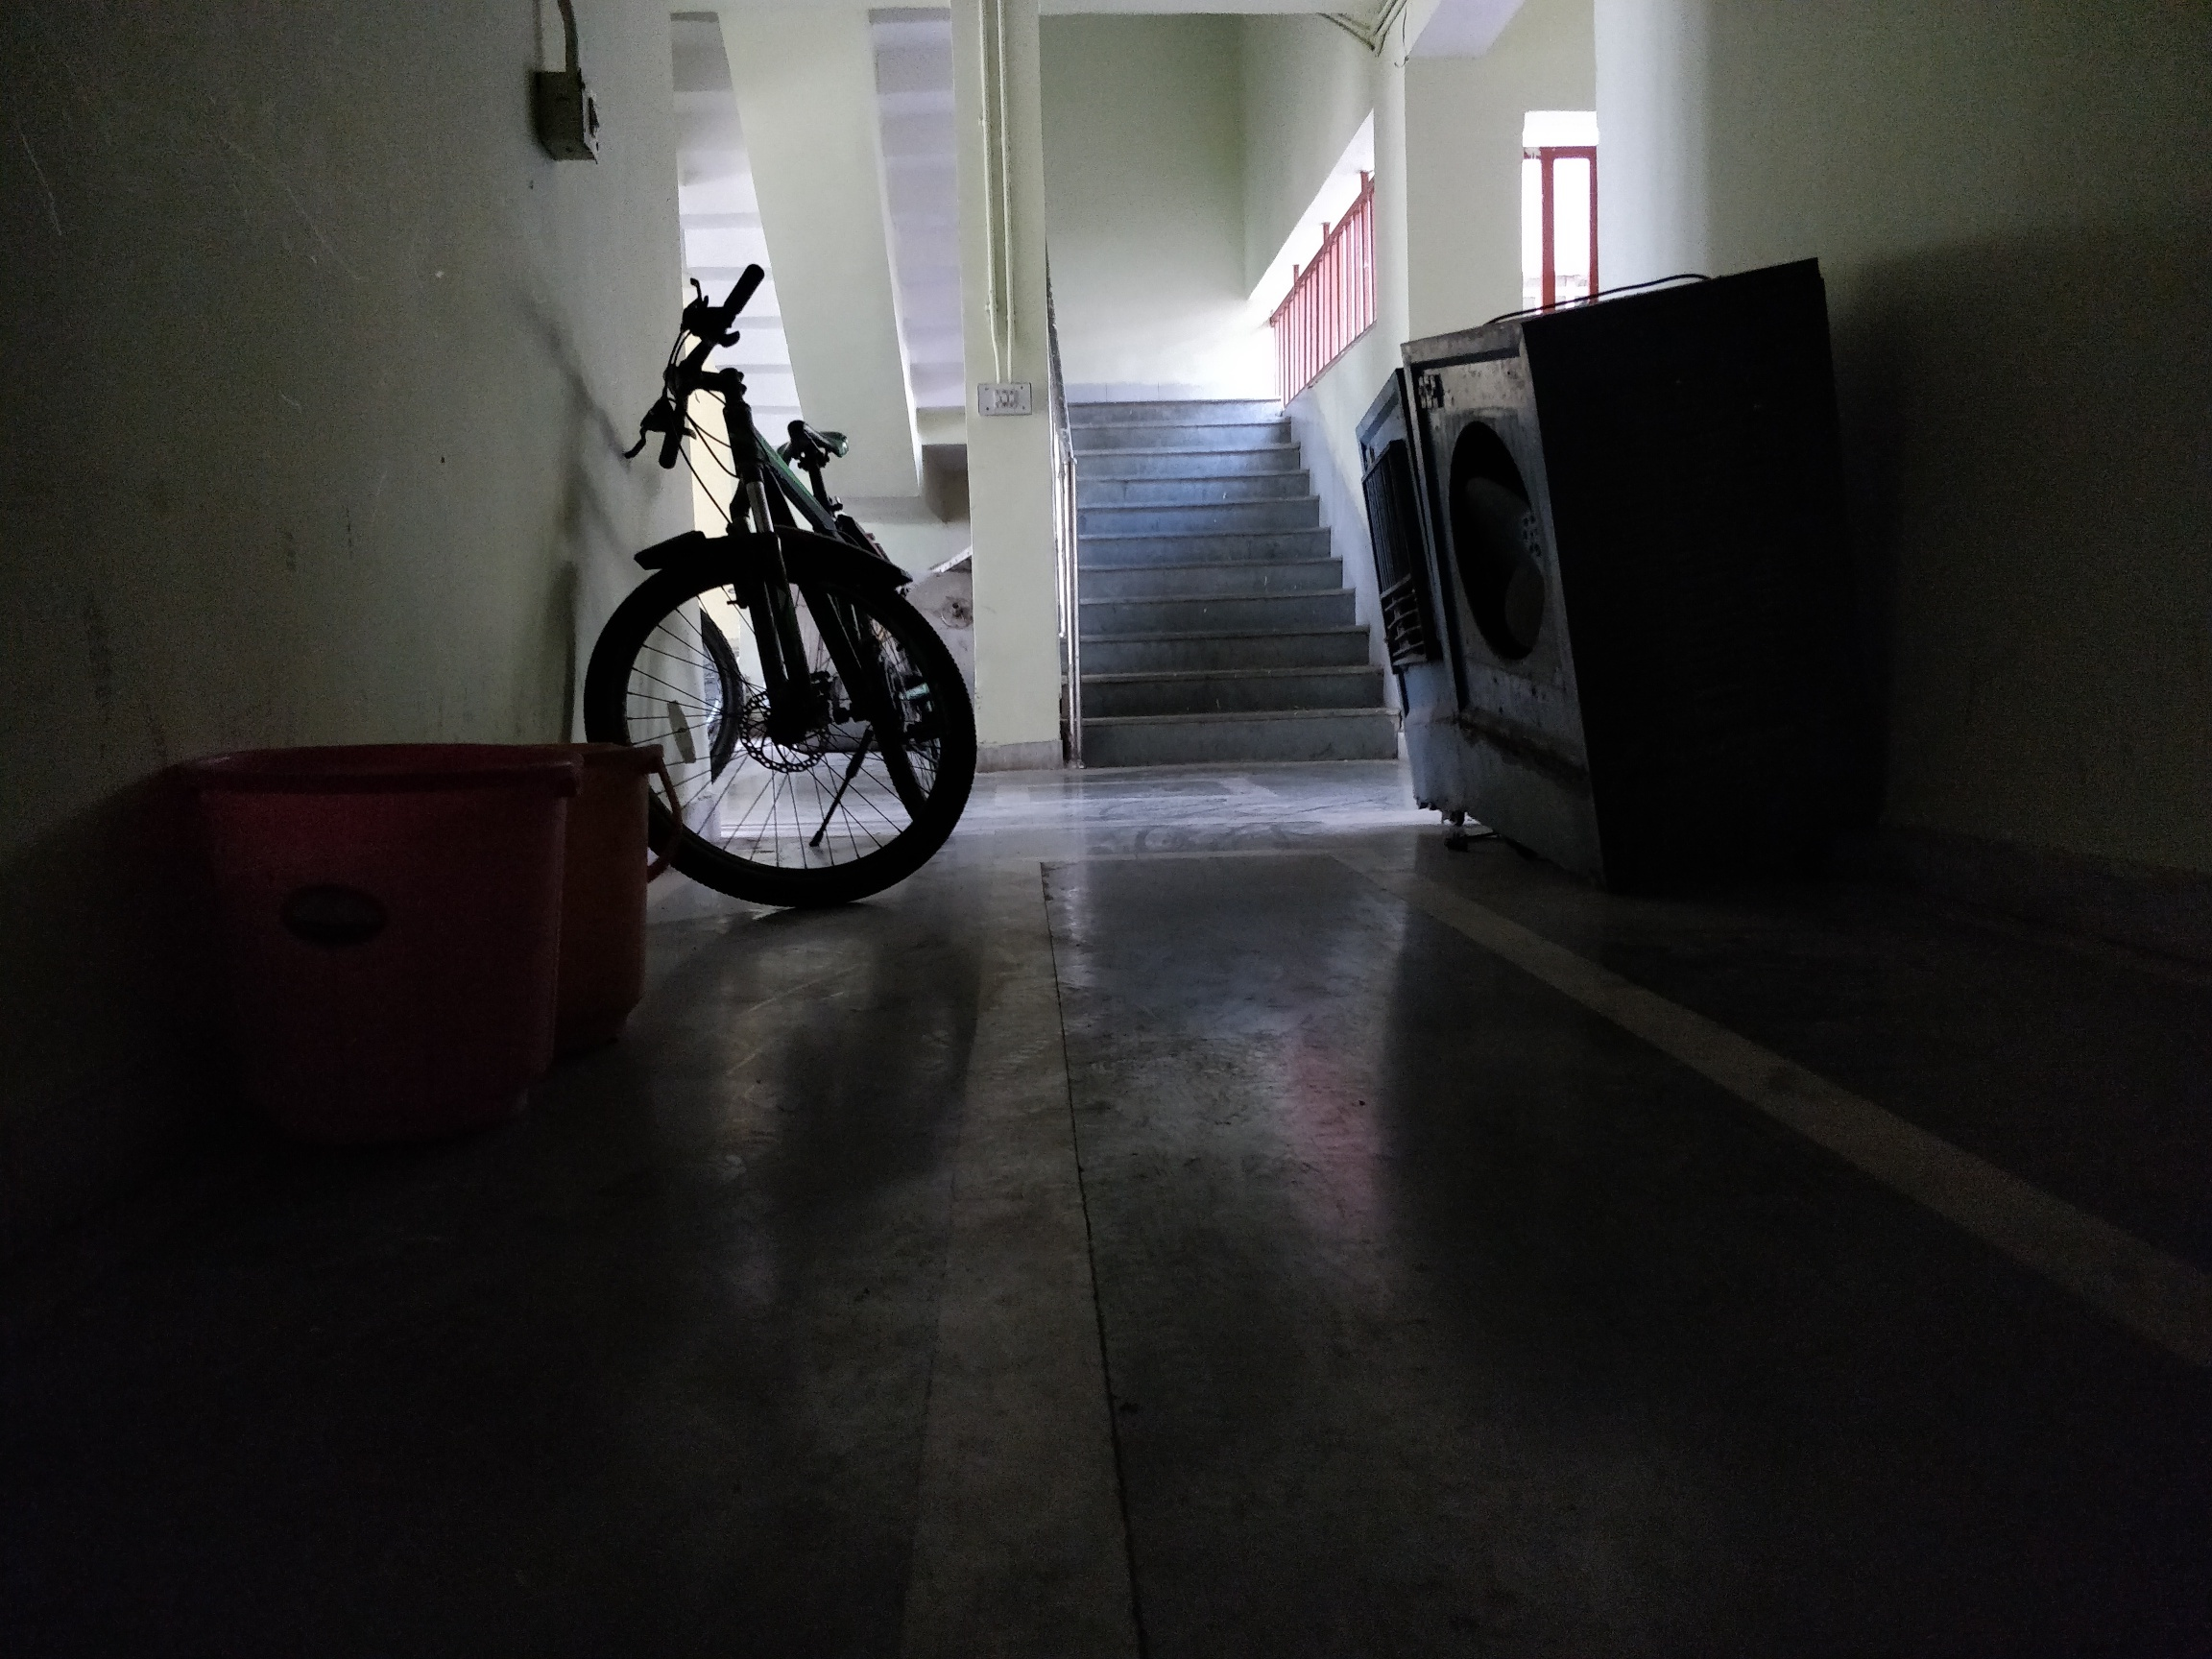stairs_up: (1043, 392, 1399, 772)
